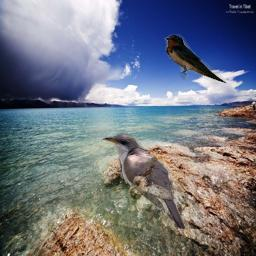Cuckoo: (101, 131, 185, 232)
Swallow: (164, 34, 227, 84)
